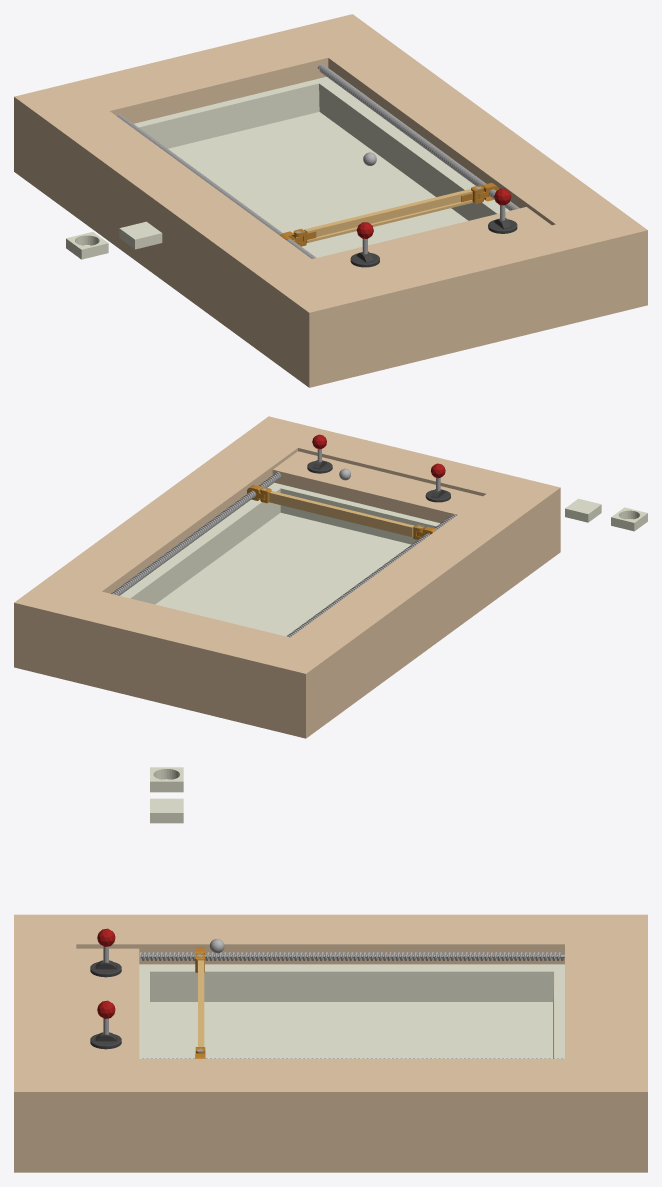
The model's file is balanceball2.1.gltf.
3 renders of one model, top to bottom at view 1: azimuth 30°, elevation 25°; view 2: azimuth 150°, elevation 25°; view 3: azimuth 270°, elevation 25°, orthographic. The views are drawn at different scales.
Visible parts, largest first — view 1: Cube, Cube.005, Cylinder.005, Cylinder, Cube.006, Cube.007; view 2: Cube, Cube.005, Cylinder.005, Cylinder, Cube.007, Cube.006; view 3: Cube, Cylinder, Cube.006, Cube.007, Cube.005.
Part boxes in pixels (box(x1,y1,x2,y2)): Cube: box(14, 14, 647, 387); Cube.005: box(304, 189, 472, 242); Cylinder.005: box(317, 64, 519, 210); Cylinder: box(117, 114, 316, 258); Cube.006: box(119, 221, 162, 249); Cube.007: box(66, 232, 108, 259); Cube: box(14, 416, 560, 738); Cube.005: box(269, 491, 414, 537); Cylinder.005: box(111, 472, 282, 595); Cylinder: box(286, 514, 455, 637); Cube.007: box(611, 507, 647, 531); Cube.006: box(565, 498, 601, 522); Cube: box(14, 914, 647, 1172); Cylinder: box(139, 952, 564, 960); Cube.006: box(150, 798, 183, 823); Cube.007: box(150, 767, 183, 792); Cube.005: box(198, 960, 204, 1046).
Bounding box in the file's own units: 16.6 × 4.16 × 16.87.
